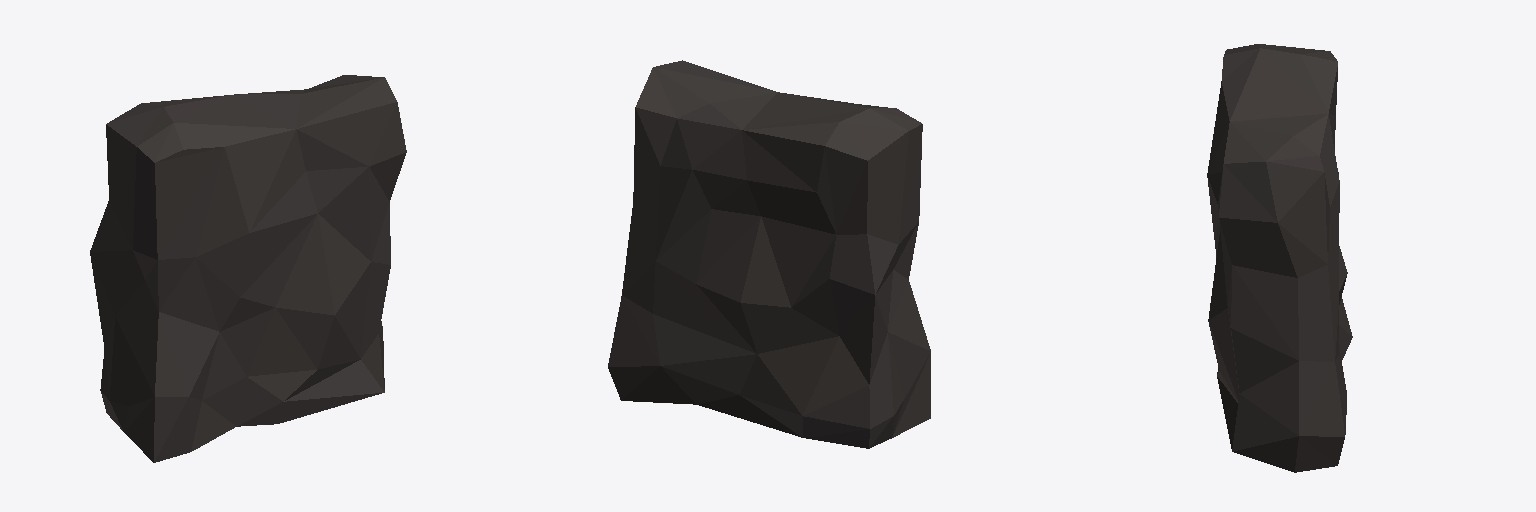
File: rock_column_3x1.obj
3 renders of one model, left to right at view 1: azimuth 30°, elevation 25°; view 2: azimuth 150°, elevation 25°; view 3: azimuth 270°, elevation 25°, orthographic.
Parts seen in each view (by area): view 1: rock_column_3x1_Cube.001; view 2: rock_column_3x1_Cube.001; view 3: rock_column_3x1_Cube.001.
Part boxes in pixels (x1,y1,x2,y2): rock_column_3x1_Cube.001: (90, 75, 406, 462); rock_column_3x1_Cube.001: (608, 60, 930, 448); rock_column_3x1_Cube.001: (1207, 44, 1352, 472).
Bounding box in the file's own units: 7.3 × 8.31 × 3.37.